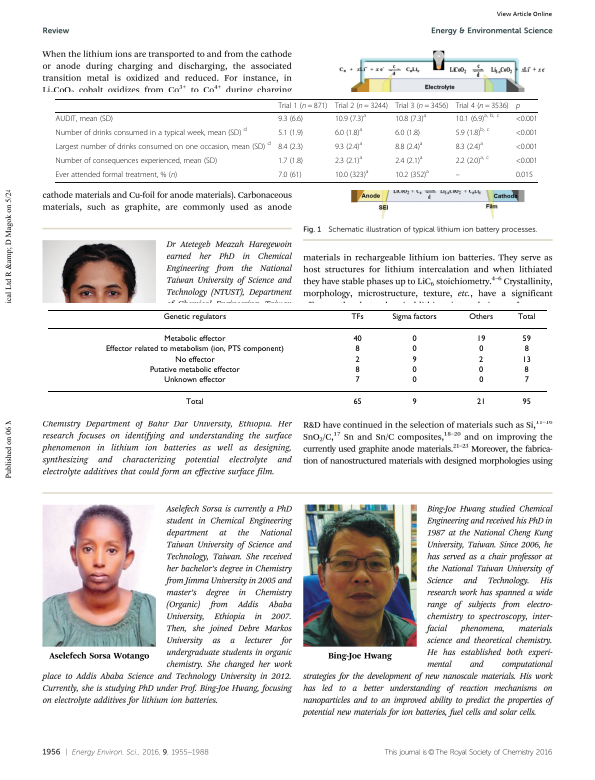borderless: (46, 308, 548, 415), (54, 97, 538, 182)
cell: (55, 140, 272, 152), (55, 126, 248, 138), (104, 345, 284, 355), (55, 156, 218, 166), (55, 170, 178, 180), (148, 365, 240, 375), (162, 312, 227, 322), (55, 114, 114, 124), (163, 335, 226, 344), (163, 376, 226, 385), (455, 112, 500, 124), (334, 101, 389, 110), (394, 101, 449, 110), (455, 101, 510, 110), (391, 312, 437, 322), (277, 101, 328, 110), (394, 168, 430, 180), (455, 126, 490, 138), (455, 154, 490, 166), (334, 168, 369, 180), (174, 355, 215, 365), (334, 112, 367, 124), (394, 112, 427, 124), (334, 126, 363, 138), (334, 140, 363, 152), (394, 140, 423, 152), (455, 140, 484, 152), (334, 154, 363, 166), (394, 154, 423, 166), (277, 114, 304, 124), (277, 128, 304, 138), (394, 128, 421, 138), (277, 142, 304, 152), (277, 156, 304, 166), (468, 312, 494, 322), (277, 170, 302, 180), (515, 114, 538, 124), (515, 128, 538, 138), (515, 142, 538, 152), (515, 156, 538, 166), (516, 312, 536, 322), (515, 170, 534, 180), (185, 398, 204, 408), (350, 312, 364, 322), (521, 355, 531, 365), (352, 398, 362, 408), (476, 398, 486, 408), (521, 398, 531, 408), (352, 335, 362, 344), (476, 335, 486, 344), (521, 335, 531, 344), (354, 345, 360, 355), (411, 345, 417, 355), (478, 345, 484, 355), (523, 345, 529, 355), (354, 355, 360, 365), (411, 355, 417, 365), (478, 355, 484, 365), (354, 365, 360, 375), (411, 365, 417, 375), (478, 365, 484, 375), (523, 365, 529, 375), (411, 398, 417, 408), (411, 335, 417, 344), (354, 376, 360, 385), (411, 376, 417, 385), (478, 376, 484, 385), (523, 376, 529, 385), (515, 103, 521, 110), (455, 174, 461, 178)
